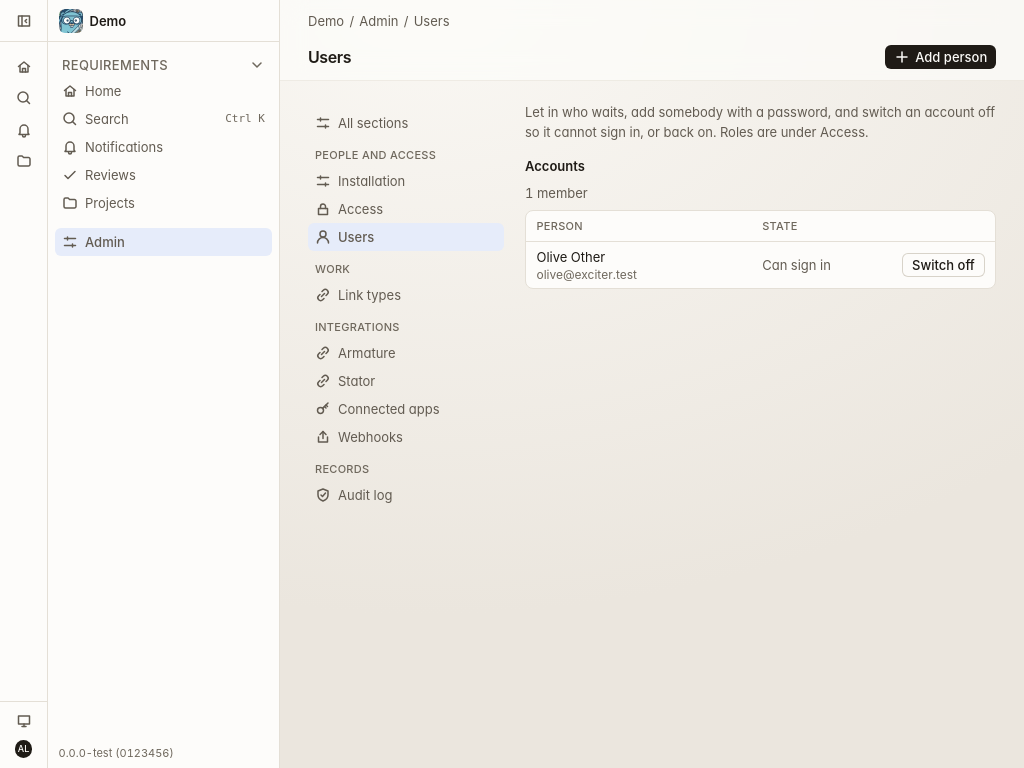
it: adding a person with a password › does not show a password that was chosen, and says so for a person who already had an account
Click the button "Add person" at [941, 57], box [885,44,996,69]
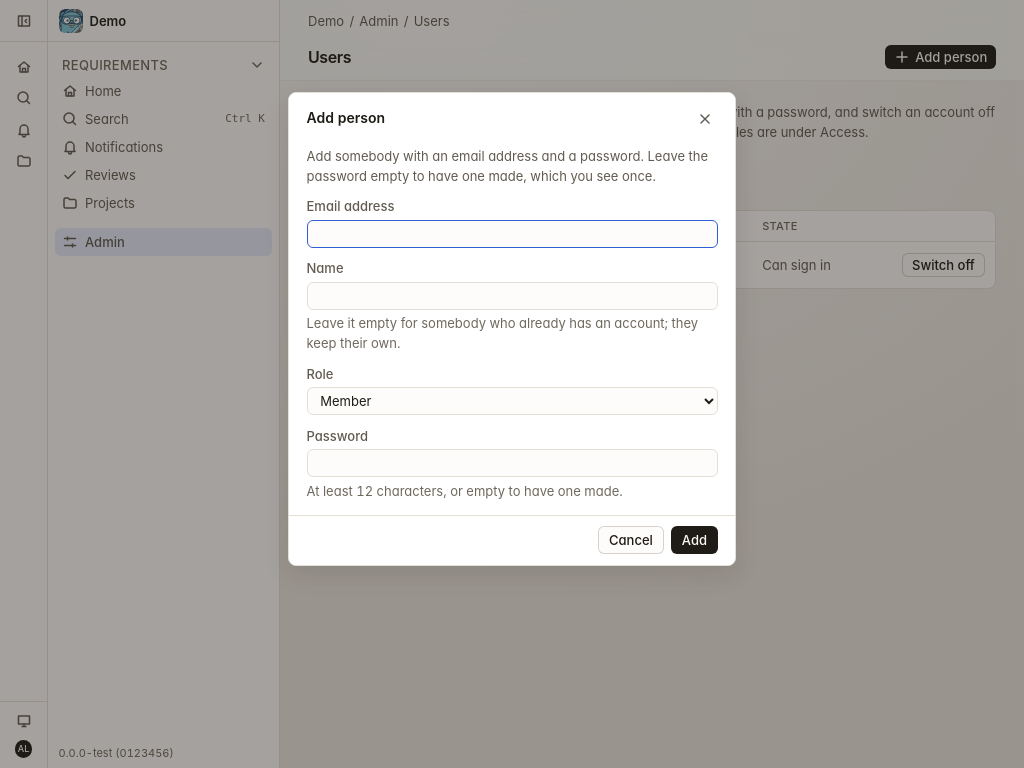
Type "bob@exciter.test" into the field labelled "Email address" at [512, 234], box [306,220,718,248]
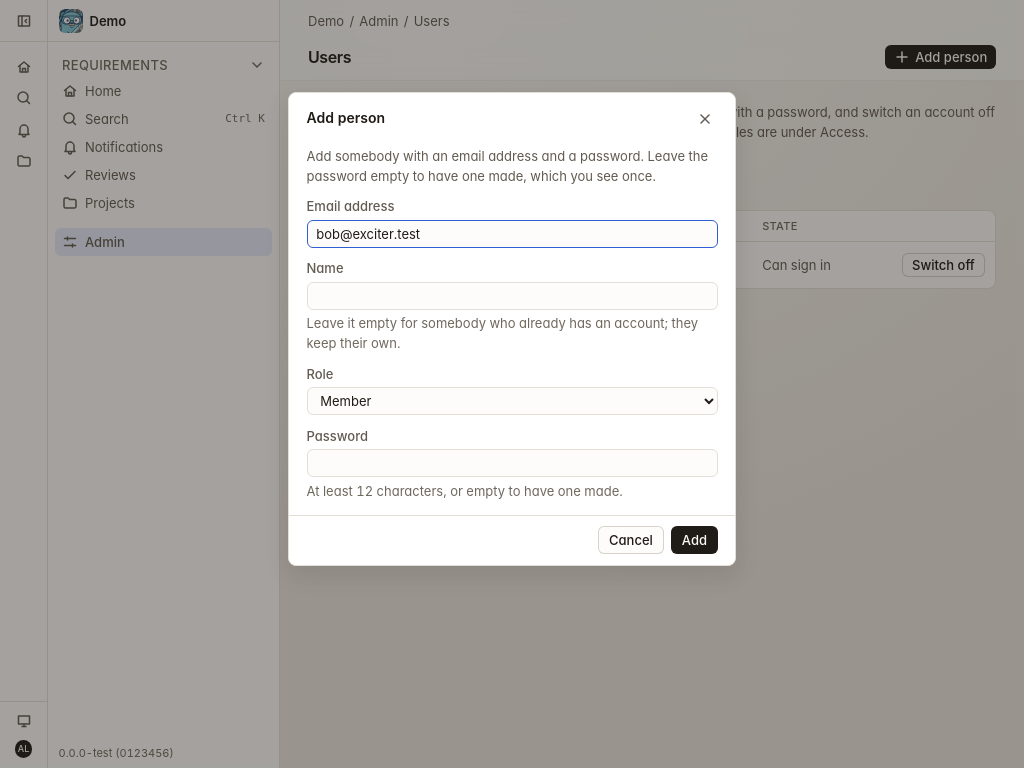
Select "Guest" in the dropdown labelled "Role" at [512, 401], box [306,387,718,415]
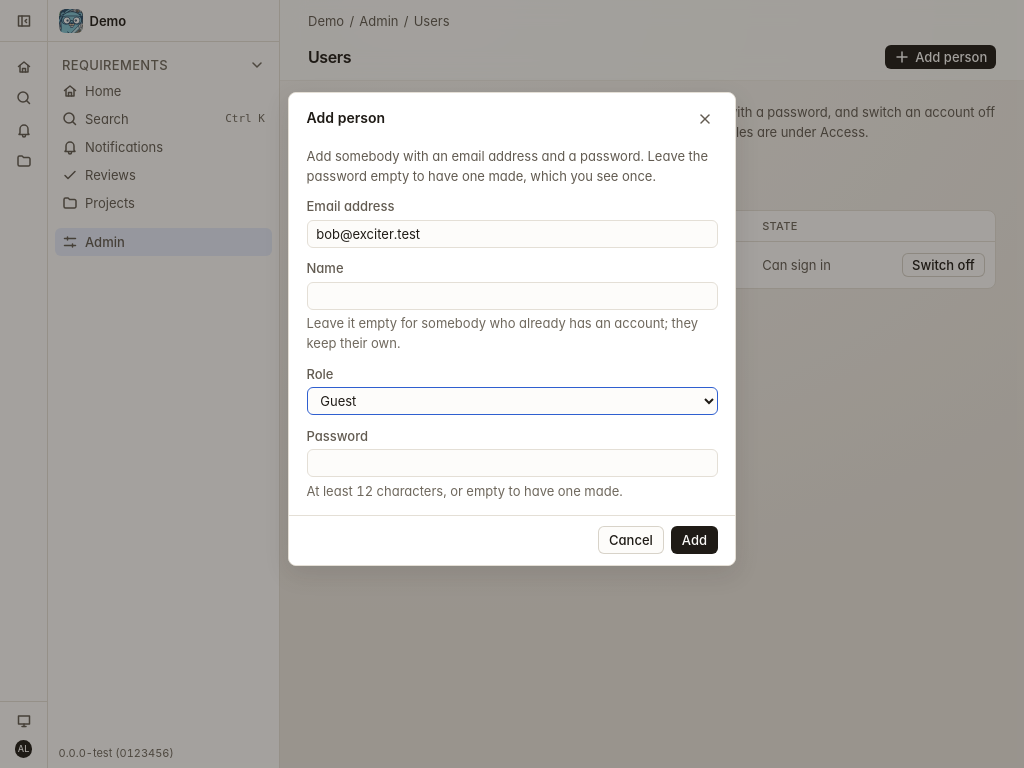
Type "a password of my own" into the password field labelled "Password" at [512, 463], box [306,449,718,477]
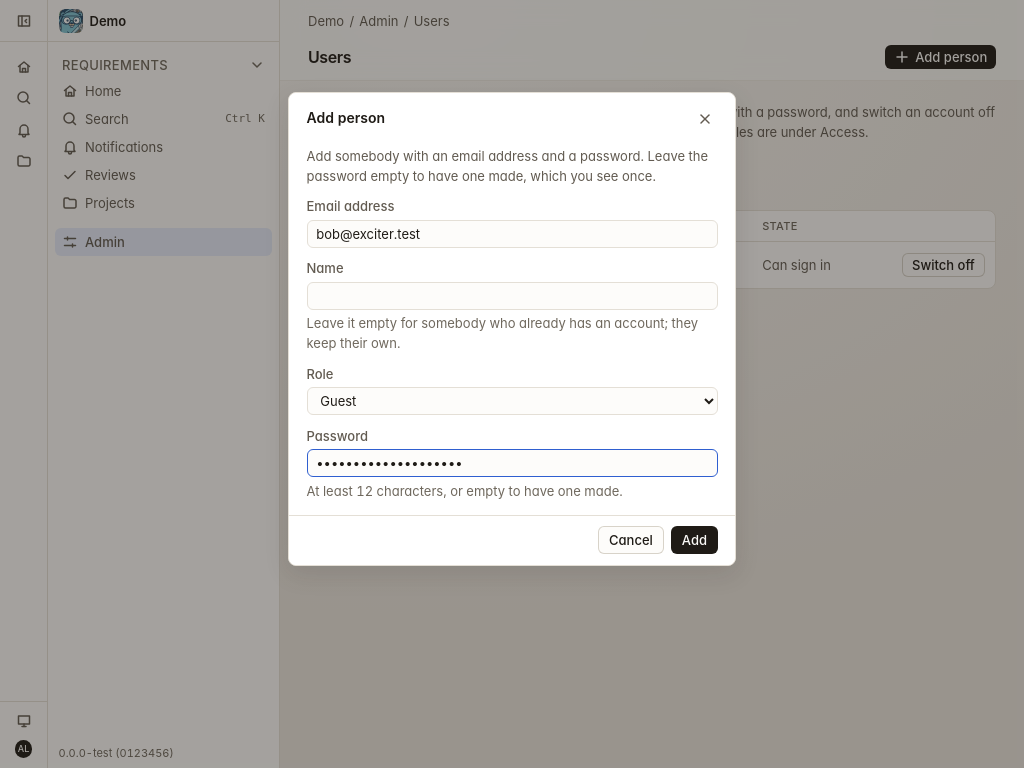
Click the button "Add" at [694, 540], box [671,526,718,554]
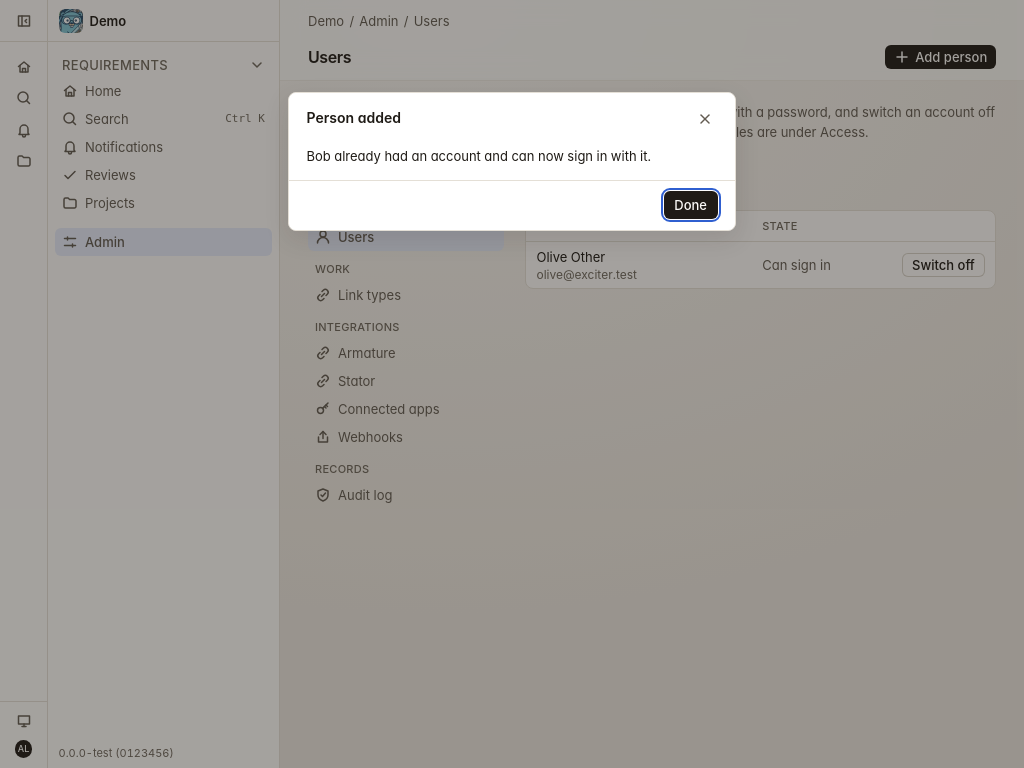
Expected: the text "Bob already had an account and can now sign in with it." is shown, [306,148,651,164]
